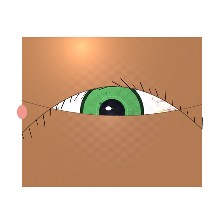pinguecula_lesion: (146, 101, 180, 128)
